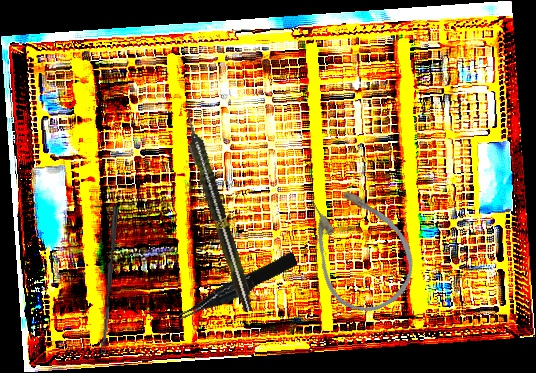Cannula: (289, 169, 429, 326)
Handpiece: (178, 107, 258, 315)
Surgical Spoon: (99, 204, 119, 354)
Tissue Forceps: (173, 251, 301, 323)
